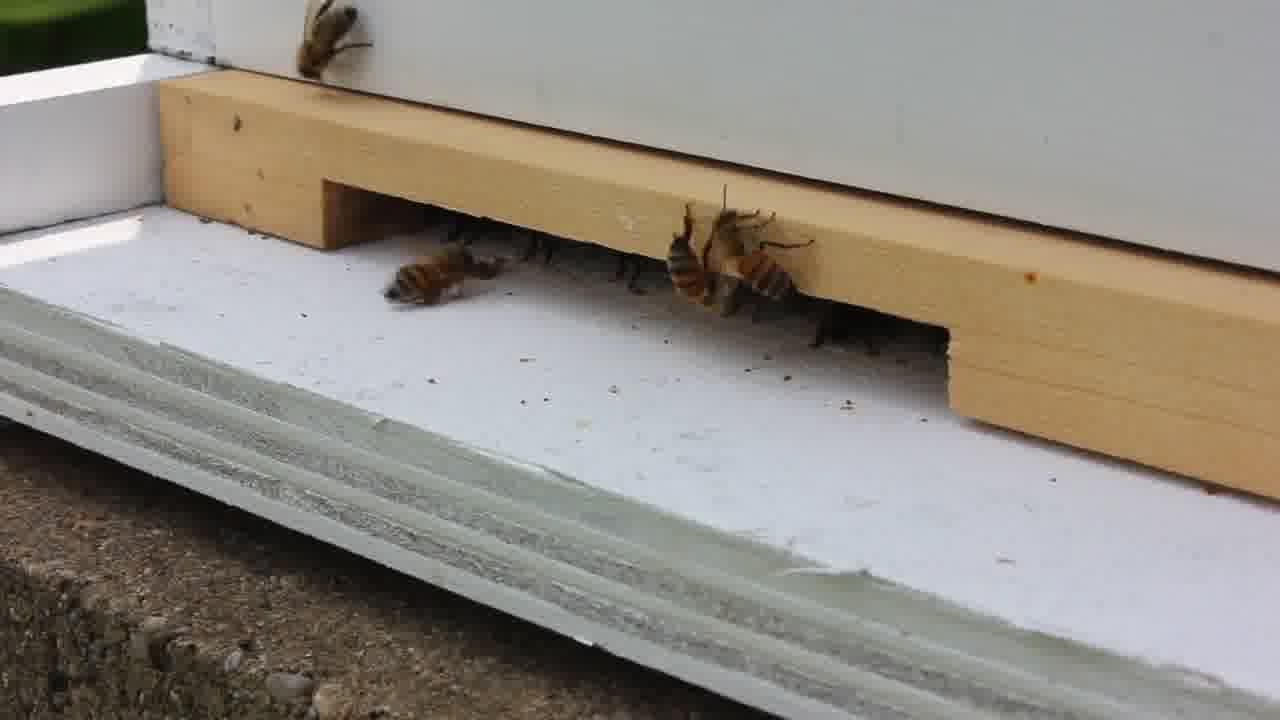pollen: (389, 247, 479, 317)
